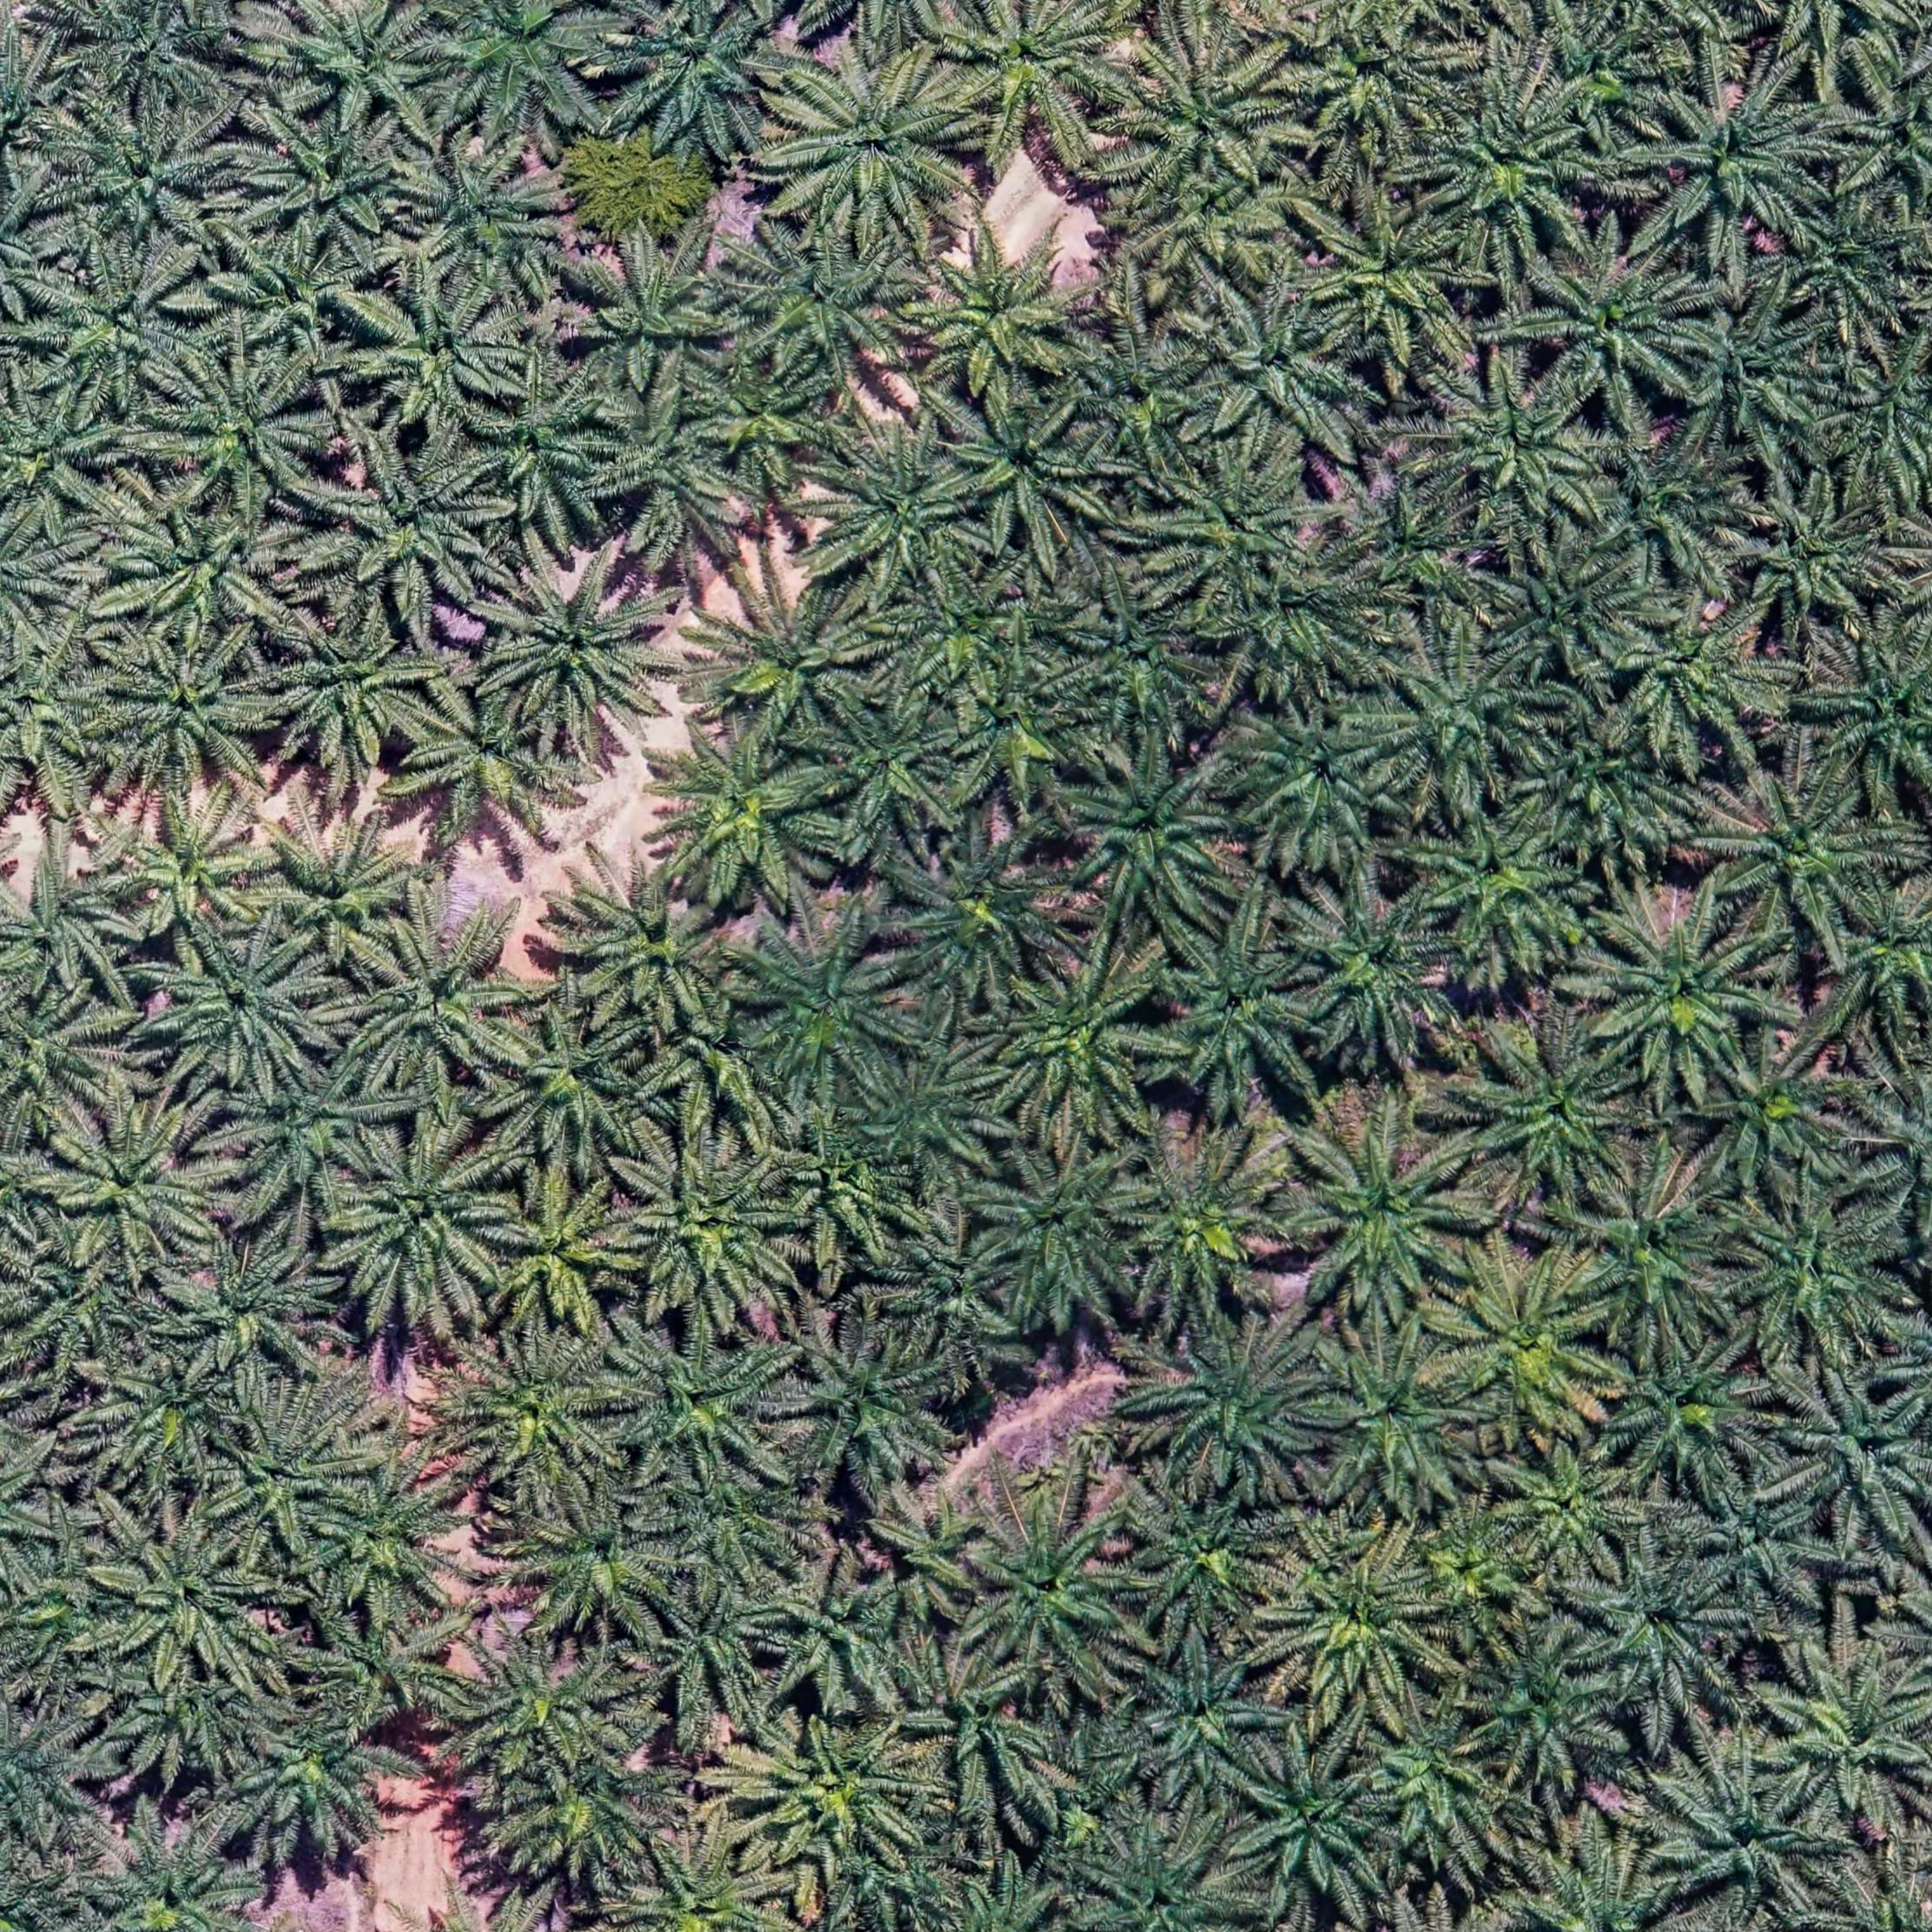palmtree: (1277, 1106, 1490, 1320), (1587, 890, 1783, 1095), (479, 550, 681, 745), (612, 1129, 814, 1322), (773, 51, 978, 239), (1131, 1316, 1339, 1500), (1060, 738, 1254, 934), (329, 1122, 522, 1318), (1146, 913, 1336, 1109), (649, 727, 847, 915), (343, 904, 541, 1090), (1419, 356, 1615, 541), (1640, 67, 1836, 251), (732, 1711, 939, 1884), (1302, 1327, 1493, 1513), (982, 950, 1173, 1136), (885, 816, 1072, 1003), (1707, 764, 1898, 948), (1113, 1127, 1297, 1316), (962, 1497, 1146, 1686), (313, 437, 502, 621), (1221, 692, 1414, 872), (1465, 1019, 1652, 1203), (1562, 1162, 1744, 1350), (975, 1134, 1155, 1322), (557, 860, 748, 1037), (1375, 637, 1568, 810), (741, 911, 922, 1095), (1412, 793, 1596, 973), (1269, 1534, 1456, 1711), (1288, 881, 1467, 1065), (143, 922, 338, 1090), (732, 226, 931, 391), (775, 1318, 961, 1493), (1191, 283, 1376, 458), (906, 226, 1095, 398), (1106, 142, 1309, 301), (609, 1320, 805, 1484), (1437, 1258, 1617, 1437), (44, 1097, 228, 1272), (446, 1325, 633, 1497), (1723, 1191, 1911, 1362), (697, 568, 881, 741), (97, 1516, 290, 1681), (488, 1729, 683, 1891), (1529, 239, 1711, 412), (1760, 1644, 1932, 1826), (108, 490, 303, 649), (1200, 540, 1387, 704), (262, 600, 442, 770), (479, 1005, 662, 1173), (1306, 195, 1483, 366), (152, 352, 333, 520), (237, 104, 418, 272), (1652, 1753, 1835, 1920), (1422, 85, 1605, 251), (99, 635, 283, 800), (812, 430, 987, 600), (1601, 1325, 1780, 1491), (1610, 594, 1789, 761), (400, 142, 580, 306), (37, 244, 211, 414), (1568, 1543, 1744, 1709), (159, 1223, 340, 1385), (1775, 1364, 1932, 1550), (55, 104, 242, 260), (251, 805, 426, 971), (945, 384, 1120, 550), (895, 1640, 1062, 1815), (1516, 708, 1698, 867), (403, 679, 577, 846), (1113, 34, 1299, 188), (1667, 294, 1840, 458), (352, 274, 527, 435), (232, 1702, 407, 1863), (460, 361, 626, 529), (502, 1491, 681, 1647), (612, 0, 796, 150), (1049, 571, 1215, 738), (1732, 474, 1900, 639), (1695, 1031, 1867, 1192), (221, 1053, 398, 1208), (945, 0, 1132, 147), (1461, 1628, 1628, 1792), (1580, 428, 1746, 593), (106, 787, 278, 947), (587, 386, 750, 552), (1233, 1743, 1398, 1905), (1122, 1640, 1283, 1805), (479, 1175, 644, 1336), (1154, 448, 1320, 607), (1120, 1483, 1288, 1640), (313, 1460, 481, 1617), (428, 0, 617, 138), (1355, 1702, 1511, 1868), (214, 1398, 379, 1553), (571, 242, 738, 396), (761, 1555, 922, 1713), (943, 651, 1106, 803), (1674, 1463, 1836, 1614), (1293, 12, 1463, 156), (211, 230, 382, 372), (449, 1633, 605, 1789), (810, 690, 966, 844), (276, 0, 449, 138), (1070, 329, 1228, 479), (1491, 543, 1658, 683), (640, 1575, 798, 1721), (1495, 1431, 1651, 1578), (60, 0, 260, 113), (0, 849, 142, 1008), (851, 1046, 1012, 1185), (770, 1106, 918, 1256), (1805, 633, 1932, 807), (1334, 471, 1490, 612), (90, 1346, 246, 1483), (886, 566, 1042, 702), (85, 1819, 269, 1932), (1776, 189, 1921, 333), (1070, 1822, 1260, 1932), (0, 630, 115, 810), (303, 1599, 467, 1725), (869, 1483, 1008, 1629), (101, 1668, 278, 1783), (658, 1454, 812, 1585), (11, 1233, 157, 1369), (0, 980, 124, 1139), (0, 379, 131, 529), (697, 352, 840, 487), (651, 993, 789, 1131), (886, 1215, 1026, 1352), (1499, 1840, 1702, 1932), (1408, 1509, 1548, 1642), (1829, 338, 1932, 504), (1826, 876, 1932, 1035), (621, 1836, 794, 1932), (0, 1704, 108, 1852), (1831, 58, 1932, 216), (1543, 21, 1667, 142), (0, 39, 94, 177)
